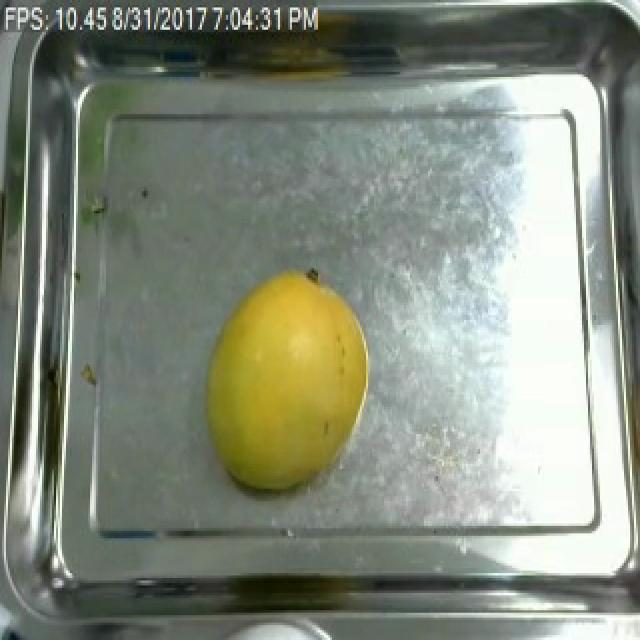fruit: (192, 261, 380, 504)
